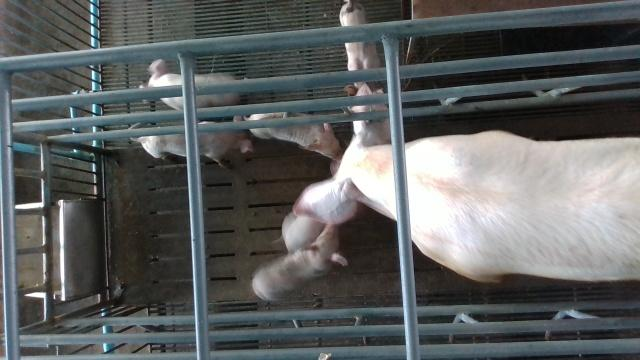piglet: (253, 223, 348, 302), (127, 115, 252, 167), (140, 58, 242, 110), (243, 112, 344, 162), (340, 0, 384, 95)
sow-stand: (292, 81, 640, 283)
